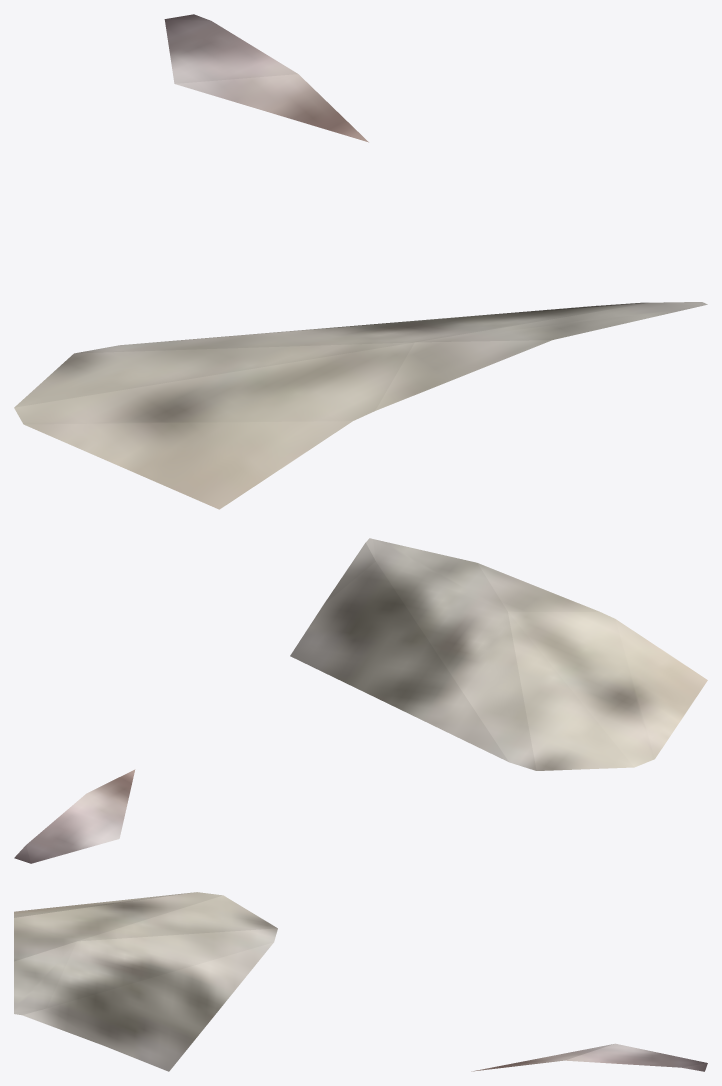
The picture shows the model from 3 angles, top to bottom: view 1: azimuth 30°, elevation 25°; view 2: azimuth 150°, elevation 25°; view 3: azimuth 270°, elevation 25°; orthographic projection. The views are drawn at different scales.
Bounding box in the file's own units: 0.1516 × 0.0233 × 0.2474.
Materials: 1 (1 with a texture image).
